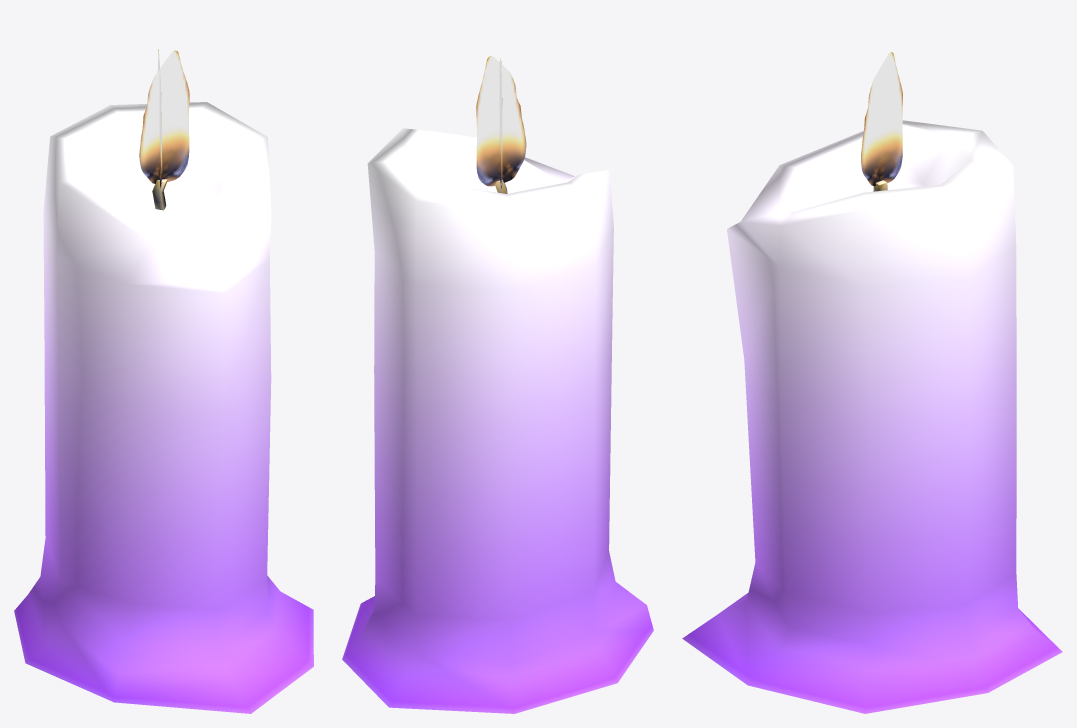
The model's file is CandleShapeB.024.glb.
The picture shows the model from 3 angles, left to right: view 1: azimuth 30°, elevation 25°; view 2: azimuth 150°, elevation 25°; view 3: azimuth 270°, elevation 25°; orthographic projection.
Visible parts, largest first — view 1: CandleShapeB.024; view 2: CandleShapeB.024; view 3: CandleShapeB.024.
Part boxes in pixels (left/top/right/bottom): CandleShapeB.024: left=14, top=49, right=313, bottom=713; CandleShapeB.024: left=342, top=56, right=653, bottom=713; CandleShapeB.024: left=682, top=52, right=1062, bottom=713.
Bounding box in the file's own units: 0.0966 × 0.2031 × 0.117.
2 materials, 2 textured.
